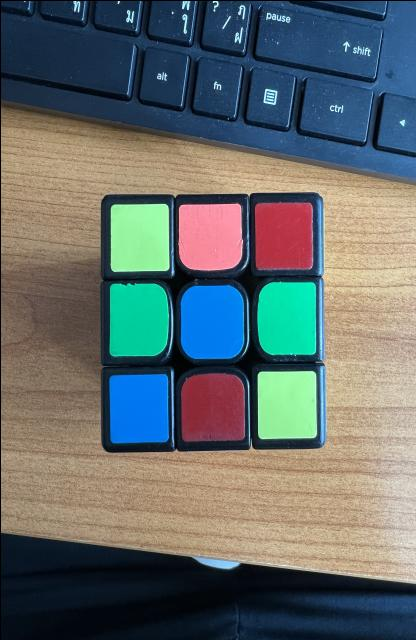Blue: (180, 284, 244, 358), (108, 372, 168, 442)
Green: (108, 282, 168, 355), (257, 281, 315, 354)
Orange: (178, 202, 242, 270)
Red: (180, 372, 244, 441), (254, 201, 312, 269)
Yellow: (109, 202, 169, 271), (257, 370, 316, 439)
